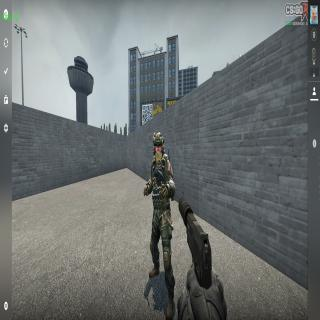CT-Body: (144, 131, 176, 320)
CT-Head: (153, 132, 165, 164)
